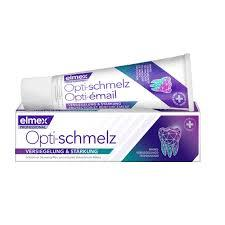toothpaste: (15, 52, 210, 117)
